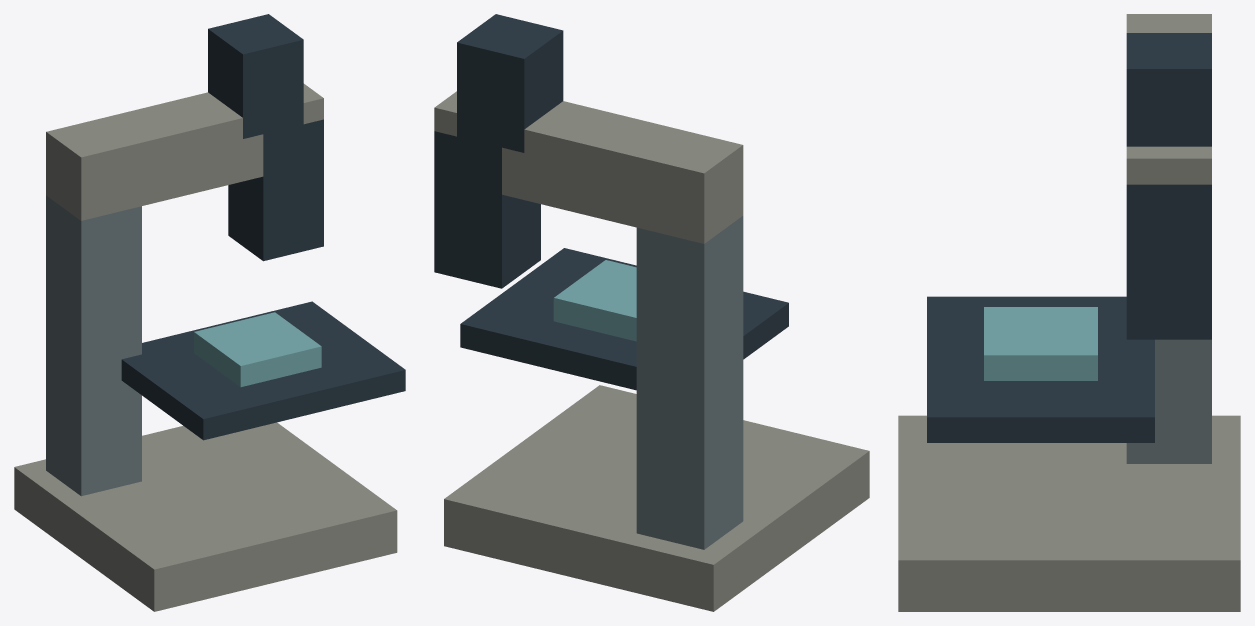
Rendered from manufacturing-17.glb.
3 views of the same model, side by side, from view 1: azimuth 30°, elevation 25°; view 2: azimuth 150°, elevation 25°; view 3: azimuth 270°, elevation 25° (orthographic). The views are drawn at different scales.
Parts seen in each view (by area): view 1: Inspection scope; view 2: Inspection scope; view 3: Inspection scope.
Boxes of the visible parts, bbox=[...] form: Inspection scope: bbox=[14, 14, 405, 611]; Inspection scope: bbox=[434, 14, 869, 611]; Inspection scope: bbox=[898, 14, 1240, 611].
Bounding box in the file's own units: 1.04 × 1.68 × 0.96.
